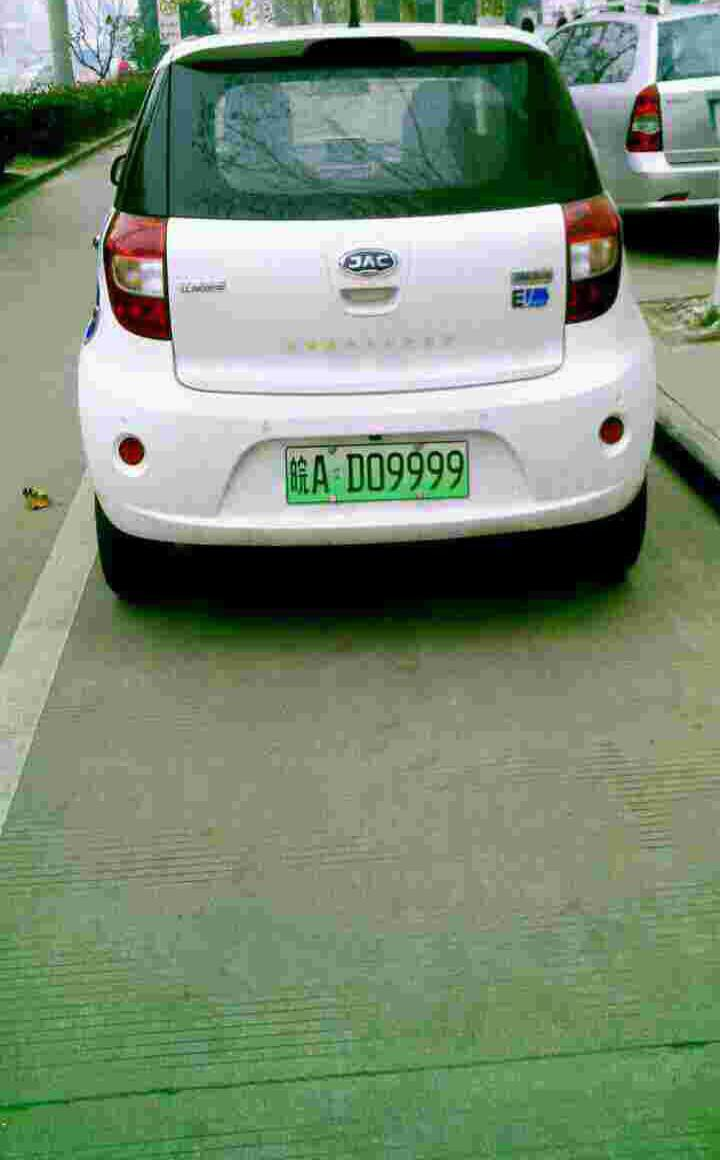car: (271, 446, 477, 502)
